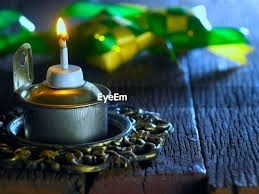fire: (55, 14, 68, 44)
